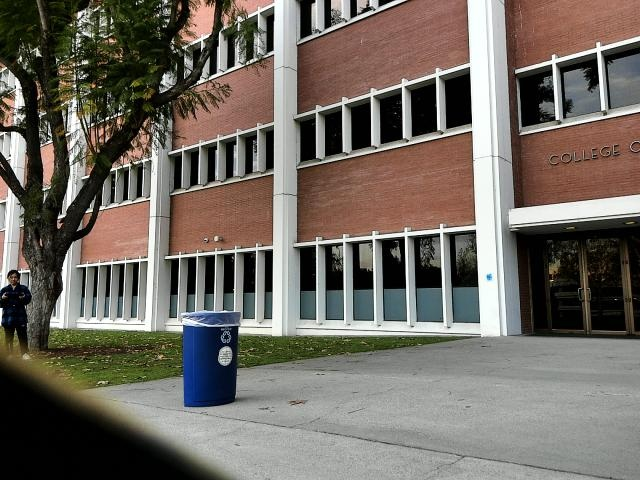trashcan_open: (174, 310, 242, 411)
